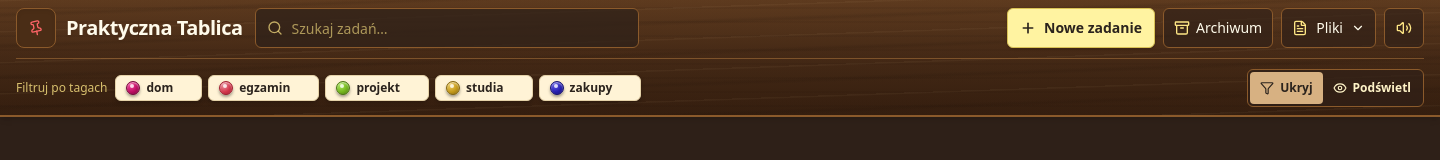
Test: Milestone M3 — TopBar, TaskModal, ContextMenu & Toast › TopBar component › closes the Files menu on Escape and outside click
This screenshot has width=1440, height=160.
Click the button with test id "btn-files-menu".
click(1329, 28)  # box x1=1281 y1=8 x2=1376 y2=48
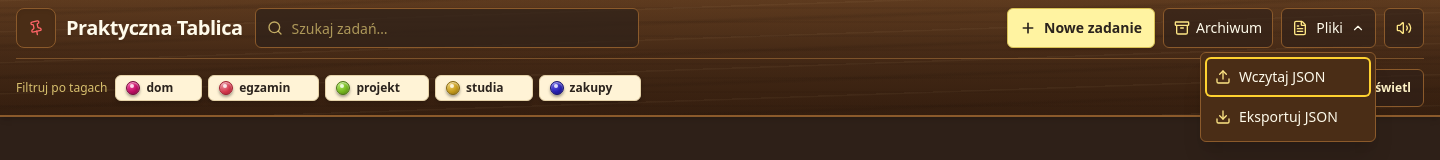
expect the button with test id "btn-files-menu" is expanded: met, box x1=1281 y1=8 x2=1376 y2=48
expect the menu named "Pliki" is shown: met, box x1=1200 y1=52 x2=1376 y2=142
Press Escape
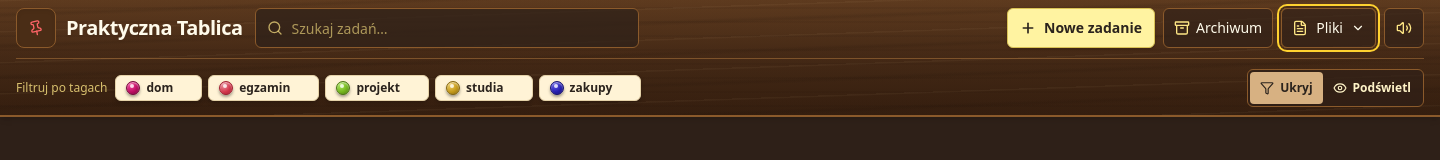
expect the button with test id "btn-files-menu" is collapsed: met
Click the button with test id "btn-files-menu".
click(1329, 28)  # box x1=1281 y1=8 x2=1376 y2=48
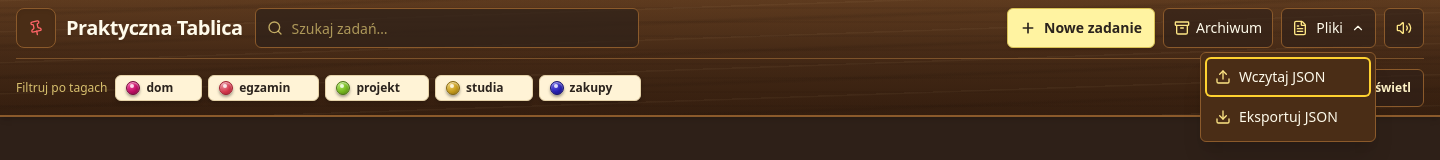
Click the field with test id "search-input".
click(446, 28)  # box x1=254 y1=8 x2=638 y2=48
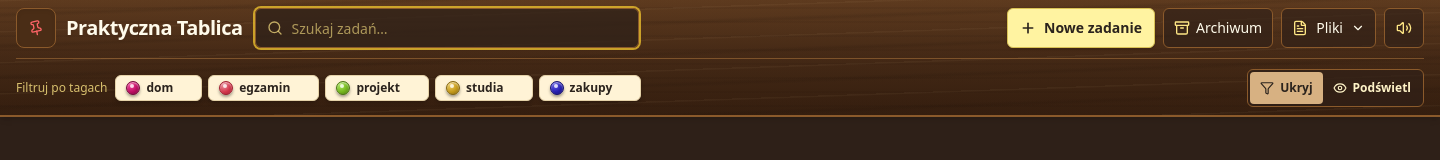
expect the button with test id "btn-files-menu" is collapsed: met, box x1=1281 y1=8 x2=1376 y2=48
